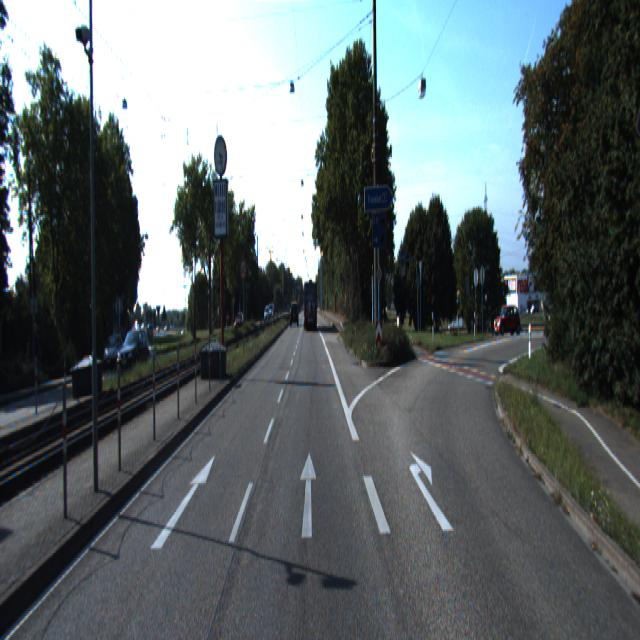Car: (117, 327, 150, 379)
DontCare: (490, 288, 525, 345), (148, 317, 191, 336), (102, 324, 117, 368), (525, 294, 550, 318), (287, 292, 300, 329), (262, 297, 276, 324), (232, 306, 244, 332)
Truck: (304, 281, 318, 332)
